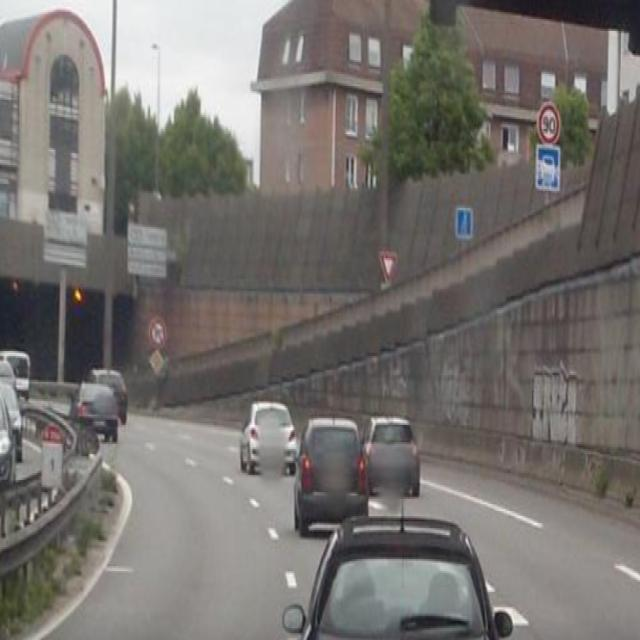speed_90: (538, 103, 562, 145)
